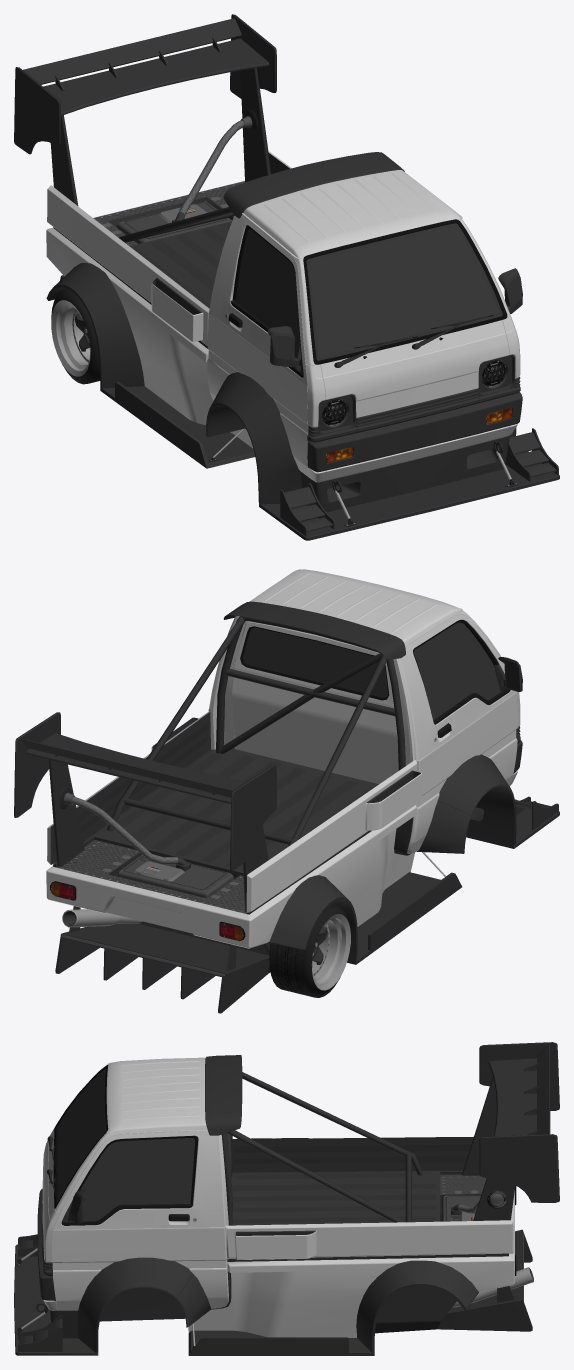
Rendered from Mitsubishi Minicab.fbx.
3 renders of one model, top to bottom at view 1: azimuth 30°, elevation 25°; view 2: azimuth 150°, elevation 25°; view 3: azimuth 270°, elevation 25°, orthographic. The views are drawn at different scales.
Visible parts, largest first — view 1: body, tyer; view 2: body, tyer; view 3: body.
Boxes of the visible parts, x1=… form: body: x1=14, y1=14, x2=559, y2=540; tyer: x1=51, y1=289, x2=100, y2=384; body: x1=14, y1=569, x2=559, y2=1013; tyer: x1=269, y1=903, x2=350, y2=997; body: x1=14, y1=1042, x2=559, y2=1355.
Bounding box in the file's own units: 178 × 170 × 371.
